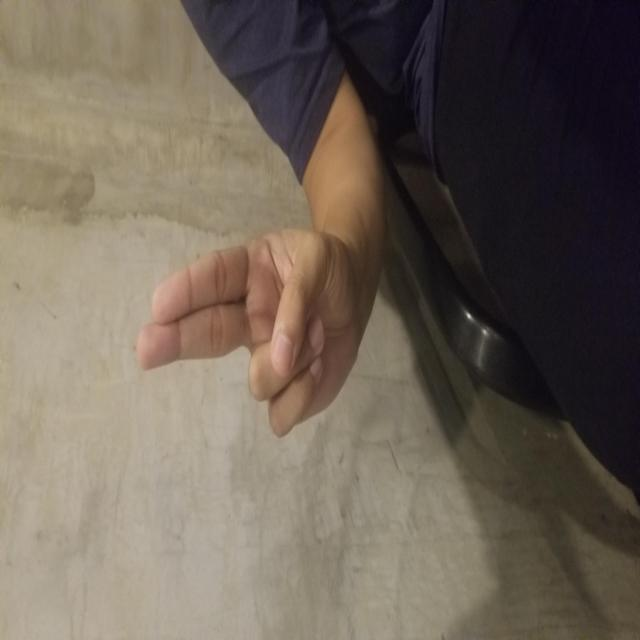U: (200, 136, 414, 360)
